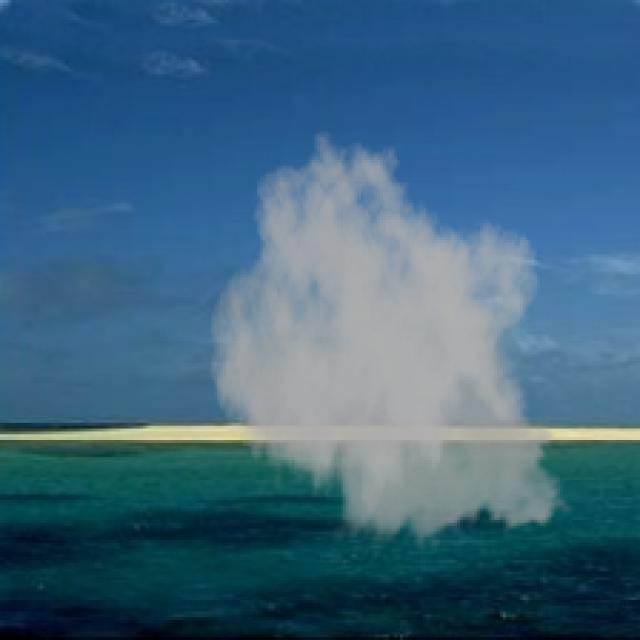Smoke: (208, 128, 578, 554)
